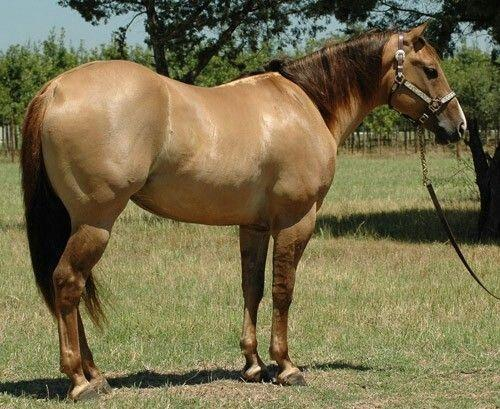horse: (19, 20, 466, 402)
